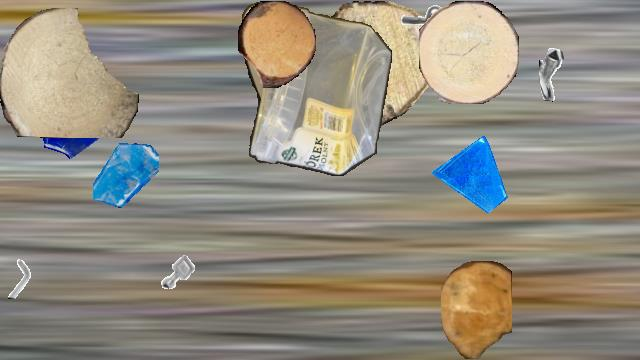glass: (32, 78, 114, 160), (432, 136, 508, 212), (93, 142, 159, 208)
metal: (386, 1, 448, 63), (539, 46, 595, 102), (153, 247, 203, 297), (0, 257, 40, 299)
plastic: (242, 1, 392, 175)
wood: (0, 8, 138, 138), (296, 1, 436, 127), (419, 1, 519, 103), (441, 261, 511, 359), (238, 1, 316, 87)
